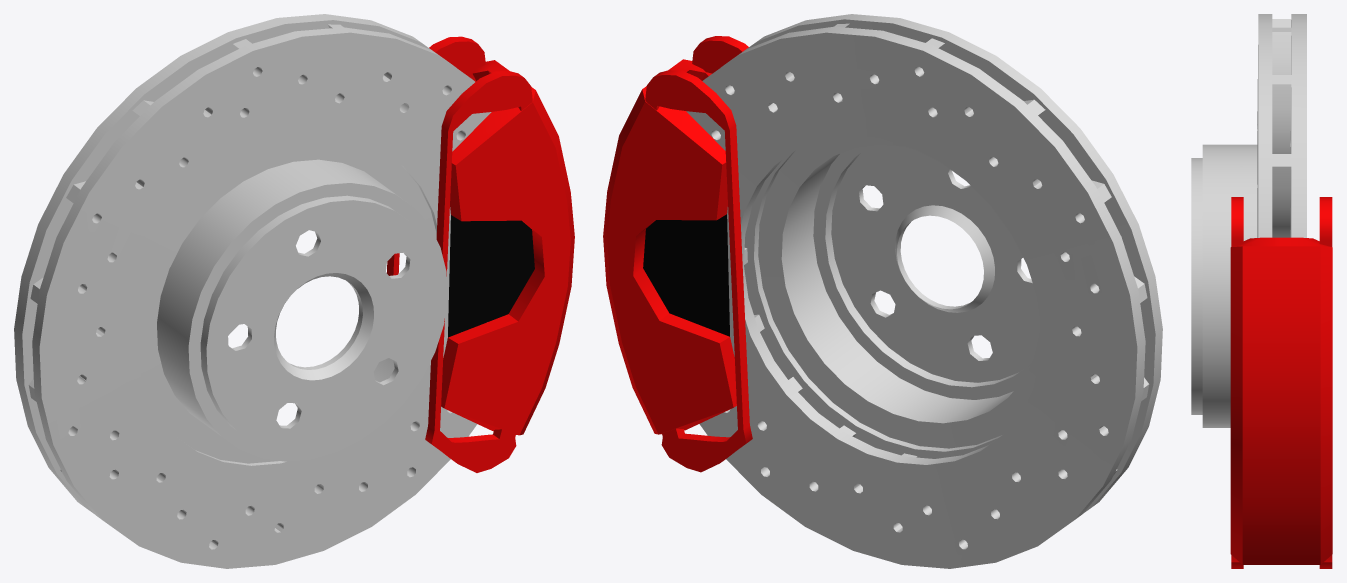
File: brake_disc.glb
The picture shows the model from 3 angles, left to right: view 1: azimuth 30°, elevation 25°; view 2: azimuth 150°, elevation 25°; view 3: azimuth 270°, elevation 25°; orthographic projection. The views are drawn at different scales.
Parts seen in each view (by area): view 1: brake_disc; view 2: brake_disc; view 3: brake_disc.
Part boxes in pixels (x1,y1,x2,y2): brake_disc: (14, 14, 574, 568); brake_disc: (603, 14, 1162, 568); brake_disc: (1191, 14, 1332, 568).
Size of the model in its own units: 1 by 0.9457 by 0.2442.
